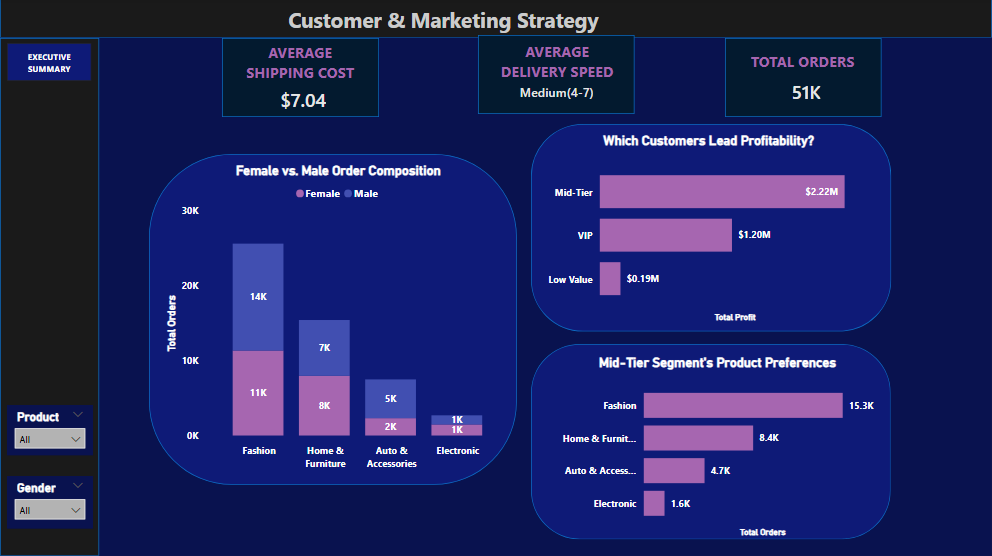

What the dashboard file says about the page in this screenshot:
{"tool":"powerbi","page":{"name":"CUSTOMER & MARKETING STRATEGY","canvas":[1280,720],"ordinal":2},"visuals":[{"type":"shape","box":[0,0,1280,51.2],"z":0},{"type":"shape","box":[616.8,48,202,102],"z":0,"group":"g11"},{"type":"shape","box":[286.3,51,202.7,102],"z":0,"group":"g12"},{"type":"shape","box":[935.8,52.2,202,102],"z":0,"group":"g13"},{"type":"shape","box":[0,51.2,128,668.4],"z":1000},{"type":"cardVisual","fields":{"Data":["All Measures.Average Delivery Speed"]},"box":[649.8,102.4,136.1,36.7],"z":1000,"group":"g11"},{"type":"cardVisual","fields":{"Data":["CountNonNull(public sales_clean.customer_id)"]},"box":[971.7,102.8,137.5,35.4],"z":1000,"group":"g13"},{"type":"cardVisual","fields":{"Data":["All Measures.Average Shipping Cost"]},"box":[322.7,110.1,137.5,38.3],"z":1000,"group":"g12"},{"type":"textbox","box":[157.9,5.7,829.2,45.5],"z":2000},{"type":"textbox","box":[636.1,52.2,165.8,60.9],"z":2000,"group":"g11"},{"type":"textbox","box":[304.3,52.4,165.8,62.4],"z":2000,"group":"g12"},{"type":"textbox","box":[963.9,65.4,165.6,51.2],"z":2000,"group":"g13"},{"type":"group","id":"g1","title":"Group 2","box":[286.3,51,202.7,102],"z":3000},{"type":"group","id":"g2","title":"Group 2","box":[616.8,48,201.5,101.5],"z":4000},{"type":"group","id":"g3","title":"Group 1","box":[192.5,201.5,474.6,426.9],"z":4000,"group":"g5"},{"type":"shape","box":[685.1,446.3,464.2,252.2],"z":4000,"group":"g7"},{"type":"shape","box":[192.5,201.5,474.6,426.9],"z":4500,"group":"g3"},{"type":"group","id":"g4","title":"Group 2","box":[935.8,52.2,201.5,101.5],"z":5000},{"type":"shape","box":[685.1,162.7,464.9,267.9],"z":5000,"group":"g16"},{"type":"group","id":"g5","title":"Group 6","box":[192.5,201.5,474.6,426.9],"z":6000},{"type":"pageNavigator","box":[9,58.1,109.7,49],"z":7000},{"type":"group","id":"g6","title":"Group 7","box":[685.1,162.7,464.2,267.2],"z":8000},{"type":"group","id":"g7","title":"Group 2","box":[685.1,446.3,464.2,252.2],"z":8000,"group":"g15"},{"type":"group","id":"g8","title":"Group 3","box":[616.8,48,201.5,101.5],"z":8001,"group":"g2"},{"type":"group","id":"g9","title":"Group 3","box":[286.3,51,202.7,102],"z":8001,"group":"g1"},{"type":"group","id":"g10","title":"Group 3","box":[935.8,52.2,202,102],"z":8001,"group":"g4"},{"type":"group","id":"g11","title":"Group 4","box":[616.8,48,202,102],"z":8002,"group":"g8"},{"type":"group","id":"g12","title":"Group 4","box":[286.3,51,202.7,102],"z":8002,"group":"g9"},{"type":"group","id":"g13","title":"Group 4","box":[935.8,52.2,202,102],"z":8002,"group":"g10"},{"type":"group","id":"g14","title":"Group 3","box":[685.1,162.7,464.9,267.9],"z":9000,"group":"g6"},{"type":"group","id":"g15","title":"Group 8","box":[685.1,446.3,464.2,253.7],"z":9000},{"type":"slicer","title":"Gender","fields":{"Values":["public sales_clean.gender"]},"box":[9,616.8,111,68.4],"z":10000},{"type":"group","id":"g16","title":"Group 5","box":[685.1,162.7,464.9,267.9],"z":10001,"group":"g14"},{"type":"columnChart","title":"Female vs. Male Order Composition","fields":{"Category":["public sales_clean.product_category"],"Y":["CountNonNull(public sales_clean.customer_id)"],"Series":["public sales_clean.gender"]},"box":[209.1,213.7,455.2,403],"z":10001,"group":"g5"},{"type":"barChart","title":"Which Customers Lead Profitability?","fields":{"Category":["public sales_clean.customer_segments.customer_segment"],"Y":["All Measures.Total Profit"]},"box":[700.7,174,428,248],"z":10003,"group":"g6"},{"type":"clusteredBarChart","title":"Mid-Tier Segment''s Product Preferences","fields":{"Category":["public sales_clean.product_category"],"Y":["CountNonNull(public sales_clean.customer_id)"],"Series":["public sales_clean.customer_segments.customer_segment"]},"box":[708.7,460.3,434.8,239.8],"z":10004,"group":"g15"},{"type":"slicer","fields":{"Values":["public sales_clean.product_category"]},"box":[9,525.2,111,64.5],"z":11000}]}

Visuals, with their boxes in screenshot pixels (x1, y1, x2, y2), scaled from the page's 1280x720 canvas onto the 992x556 screenshot:
shape: bbox=(0, 0, 991, 40)
shape: bbox=(478, 37, 635, 116)
shape: bbox=(222, 39, 379, 118)
shape: bbox=(725, 40, 882, 119)
shape: bbox=(0, 40, 99, 555)
cardVisual - All Measures.Average Delivery Speed: bbox=(504, 79, 609, 107)
cardVisual - CountNonNull(public sales_clean.customer_id): bbox=(753, 79, 860, 107)
cardVisual - All Measures.Average Shipping Cost: bbox=(250, 85, 357, 115)
textbox: bbox=(122, 4, 765, 40)
textbox: bbox=(493, 40, 621, 87)
textbox: bbox=(236, 40, 364, 89)
textbox: bbox=(747, 51, 875, 90)
"Group 2" group: bbox=(222, 39, 379, 118)
"Group 2" group: bbox=(478, 37, 634, 115)
"Group 1" group: bbox=(149, 156, 517, 485)
shape: bbox=(531, 345, 891, 539)
shape: bbox=(149, 156, 517, 485)
"Group 2" group: bbox=(725, 40, 881, 119)
shape: bbox=(531, 126, 891, 333)
"Group 6" group: bbox=(149, 156, 517, 485)
pageNavigator: bbox=(7, 45, 92, 83)
"Group 7" group: bbox=(531, 126, 891, 332)
"Group 2" group: bbox=(531, 345, 891, 539)
"Group 3" group: bbox=(478, 37, 634, 115)
"Group 3" group: bbox=(222, 39, 379, 118)
"Group 3" group: bbox=(725, 40, 882, 119)
"Group 4" group: bbox=(478, 37, 635, 116)
"Group 4" group: bbox=(222, 39, 379, 118)
"Group 4" group: bbox=(725, 40, 882, 119)
"Group 3" group: bbox=(531, 126, 891, 333)
"Group 8" group: bbox=(531, 345, 891, 541)
"Gender" slicer: bbox=(7, 476, 93, 529)
"Group 5" group: bbox=(531, 126, 891, 333)
"Female vs. Male Order Composition" columnChart: bbox=(162, 165, 515, 476)
"Which Customers Lead Profitability?" barChart: bbox=(543, 134, 875, 326)
"Mid-Tier Segment''s Product Preferences" clusteredBarChart: bbox=(549, 355, 886, 541)
slicer - public sales_clean.product_category: bbox=(7, 406, 93, 455)
